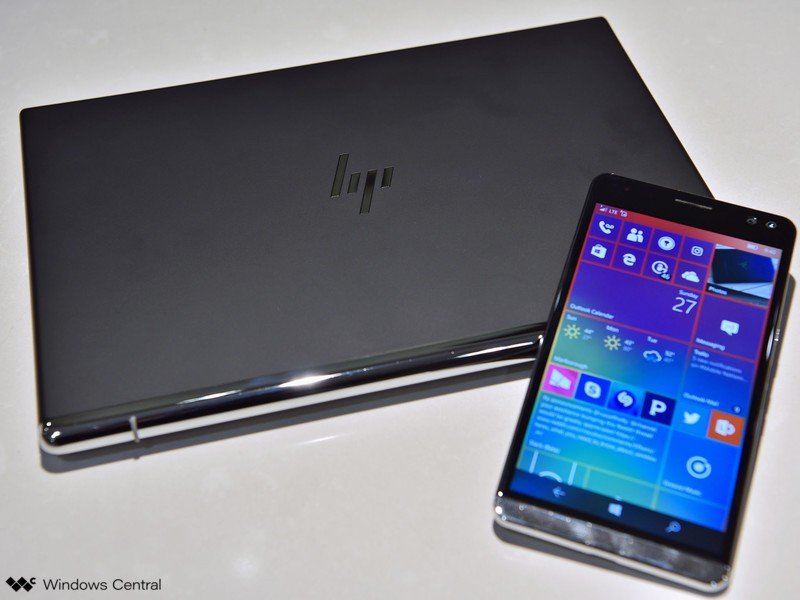Cell Phone: (495, 167, 795, 600)
